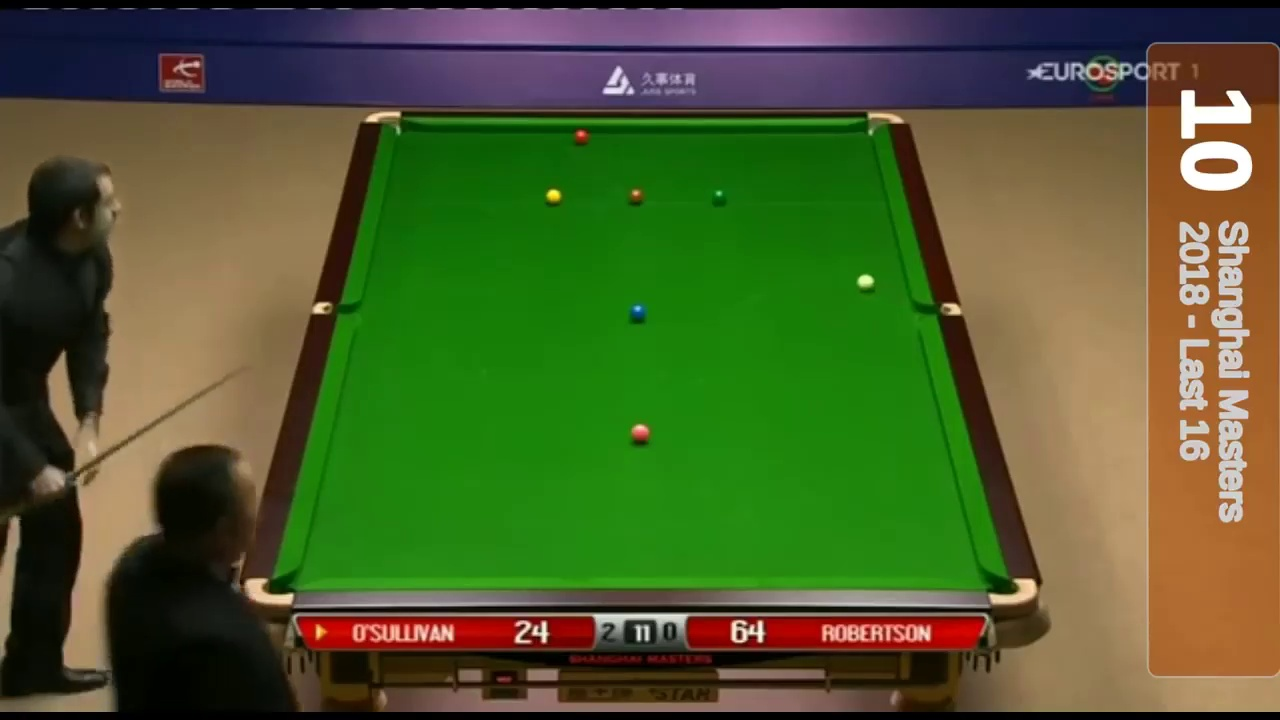ball: (629, 421, 653, 447), (627, 302, 650, 326), (545, 189, 564, 206), (712, 186, 728, 204), (628, 184, 643, 203), (573, 128, 589, 145)
